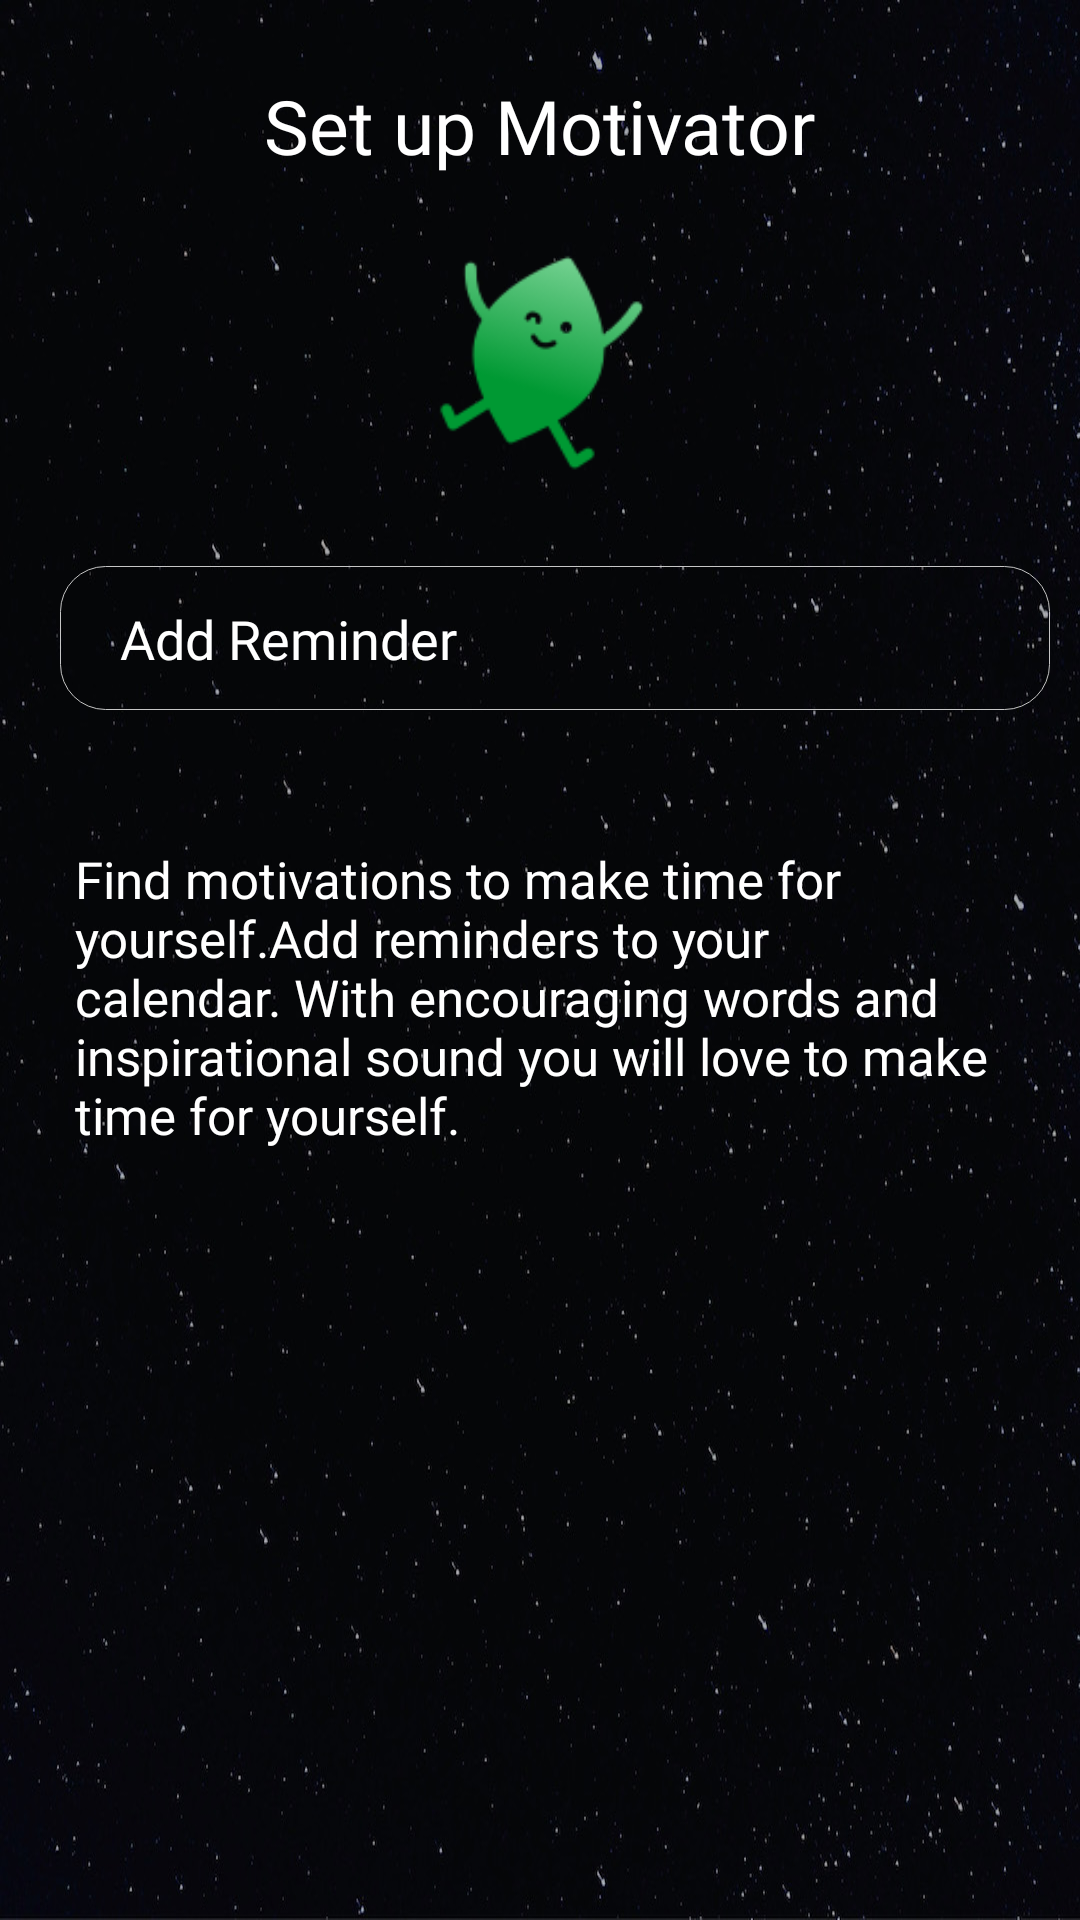

Point at icon controls on the screen. Image size 1080×1920, points as (x,y).
leaf: (543,353)
